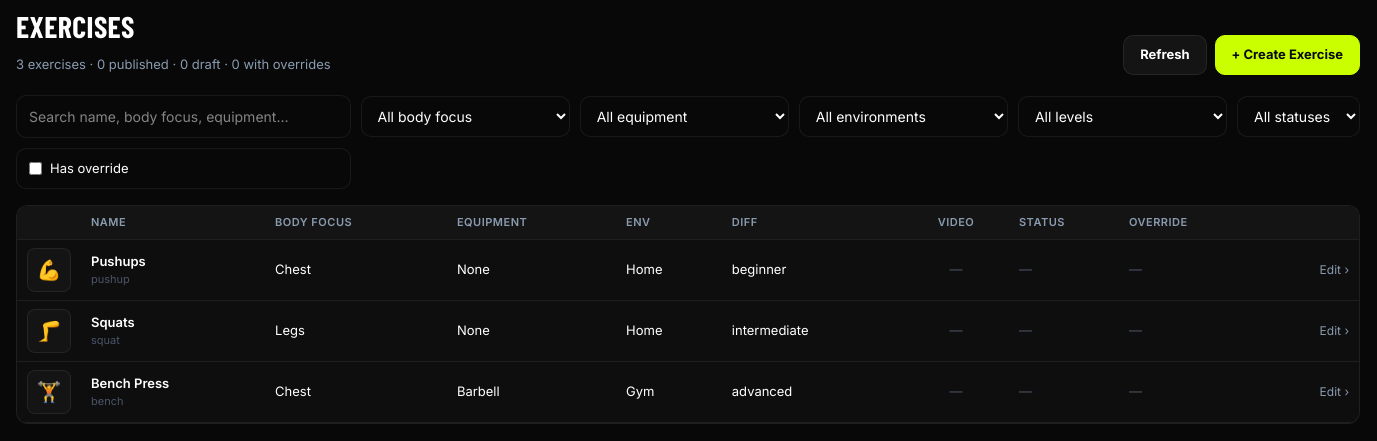
Test case: ExercisesPage › filters by equipment
Expected: the text "Pushups" is shown, [91,252,146,268]
Select "Barbell" in the 2nd dropdown: (684, 116) [580,96,789,136]
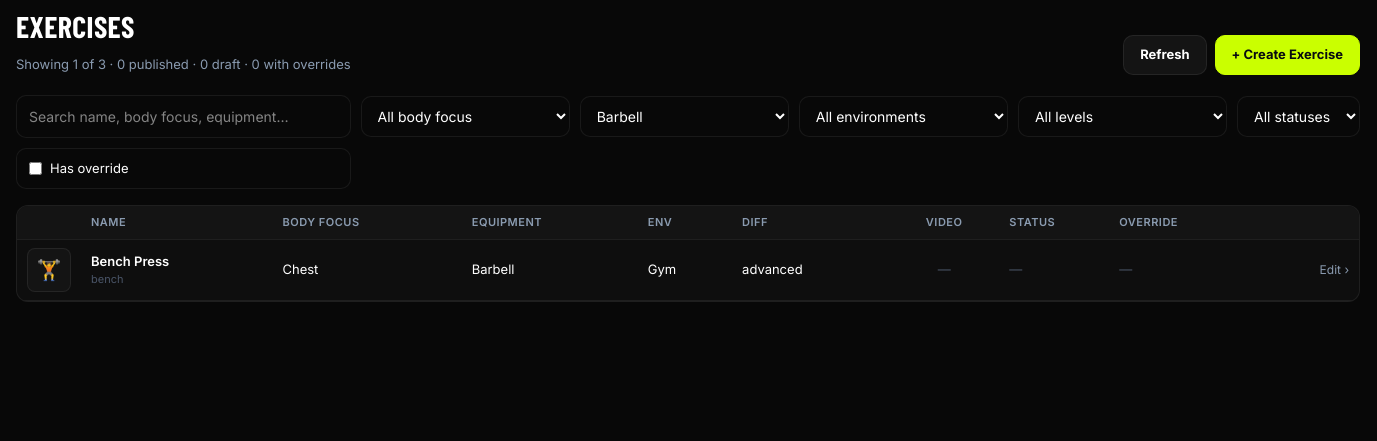
Expected: the text "Bench Press" is shown, [91,252,169,268]
Now the text "Pushups" is gone
